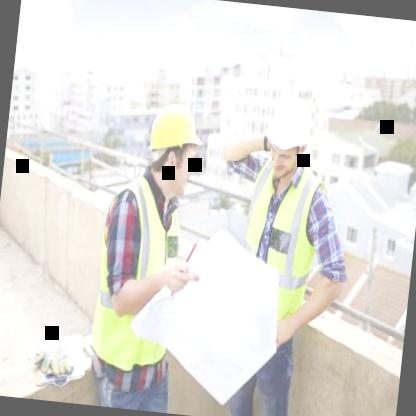helmet: (141, 95, 212, 197), (257, 88, 321, 187)
